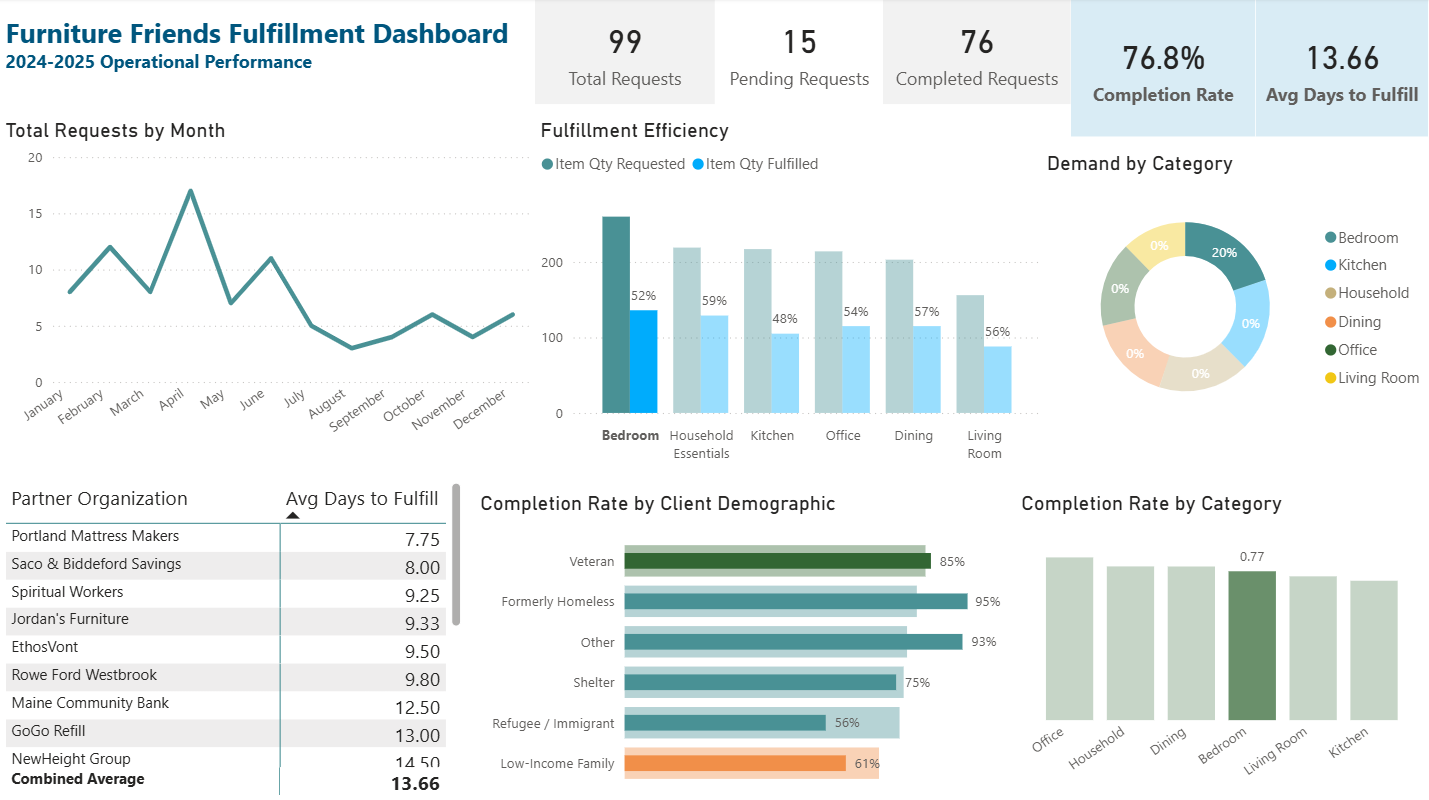

The page's visual inventory and layout, read from the dashboard file:
{"tool":"powerbi","page":{"name":"Page 1","canvas":[1280,720],"ordinal":0},"visuals":[{"type":"clusteredColumnChart","title":"Fulfillment Efficiency","fields":{"Category":["Fact_Fulfillment_Static.Item_Category"],"Y":["Sum(Fact_Fulfillment_Static.Qty_Req)","Sum(Fact_Fulfillment_Static.Qty_Full)"]},"box":[478.7,107.8,458.6,315.5],"z":0},{"type":"card","fields":{"Values":["Dim_Client_Information.Total Requests"]},"box":[478.7,0,161.3,94.7],"z":1000},{"type":"card","fields":{"Values":["Dim_Client_Information.Completeton Rate"]},"box":[959.5,0,165.3,124],"z":2000},{"type":"card","fields":{"Values":["Dim_Client_Information.Avg Days to Fulfill"]},"box":[1124.8,0,154.2,124],"z":3000},{"type":"card","fields":{"Values":["Dim_Client_Information.Pending Requests"]},"box":[640,0,151.2,94.7],"z":4000},{"type":"lineChart","fields":{"Category":["Fact_Fulfillment_Static.Request_Date.Variation.Date Hierarchy.Month"],"Y":["Dim_Client_Information.Total Requests"]},"box":[0,107.8,478.7,304.4],"z":5000},{"type":"pivotTable","fields":{"Rows":["Dim_Partner_Organizations.PartnerOrg"],"Values":["Dim_Client_Information.Avg Days to Fulfill"]},"box":[0,429.8,425,277.9],"z":6000},{"type":"barChart","title":"Completion Rate by Client Demographic","fields":{"Category":["Dim_Client_Information.ClientTypeName"],"Y":["Dim_Client_Information.Client Completion Rate %"]},"box":[425.3,441.4,475.7,278.2],"z":7000},{"type":"donutChart","title":"Demand by Category","fields":{"Y":["Dim_Client_Information.Total Requests"],"Category":["Fact_Fulfillment_Static.Item_Category_Short"]},"box":[937.3,137.1,342.7,258],"z":8000},{"type":"card","fields":{"Values":["Dim_Client_Information.Completed Requests"]},"box":[791.2,0,168.3,94.7],"z":9000},{"type":"textbox","box":[0,9.1,478.7,67.5],"z":10000},{"type":"clusteredColumnChart","title":"Completion Rate by Category","fields":{"Category":["Fact_Fulfillment_Static.Item_Category_Short"],"Y":["Dim_Client_Information.Completion Rate"]},"box":[910.6,441.3,369.2,277.9],"z":11000}]}

Visuals, with their boxes in screenshot pixels (x1, y1, x2, y2), scaled from the page's 1280x720 canvas onto the 1429x800 screenshot:
"Fulfillment Efficiency" clusteredColumnChart: <region>534, 120, 1046, 470</region>
card - Dim_Client_Information.Total Requests: <region>534, 0, 714, 105</region>
card - Dim_Client_Information.Completeton Rate: <region>1071, 0, 1256, 138</region>
card - Dim_Client_Information.Avg Days to Fulfill: <region>1256, 0, 1428, 138</region>
card - Dim_Client_Information.Pending Requests: <region>714, 0, 883, 105</region>
lineChart - Fact_Fulfillment_Static.Request_Date.Variation.Date Hierarchy.Month x Dim_Client_Information.Total Requests: <region>0, 120, 534, 458</region>
pivotTable - Dim_Partner_Organizations.PartnerOrg x Dim_Client_Information.Avg Days to Fulfill: <region>0, 478, 474, 786</region>
"Completion Rate by Client Demographic" barChart: <region>475, 490, 1006, 799</region>
"Demand by Category" donutChart: <region>1046, 152, 1428, 439</region>
card - Dim_Client_Information.Completed Requests: <region>883, 0, 1071, 105</region>
textbox: <region>0, 10, 534, 85</region>
"Completion Rate by Category" clusteredColumnChart: <region>1017, 490, 1428, 799</region>
